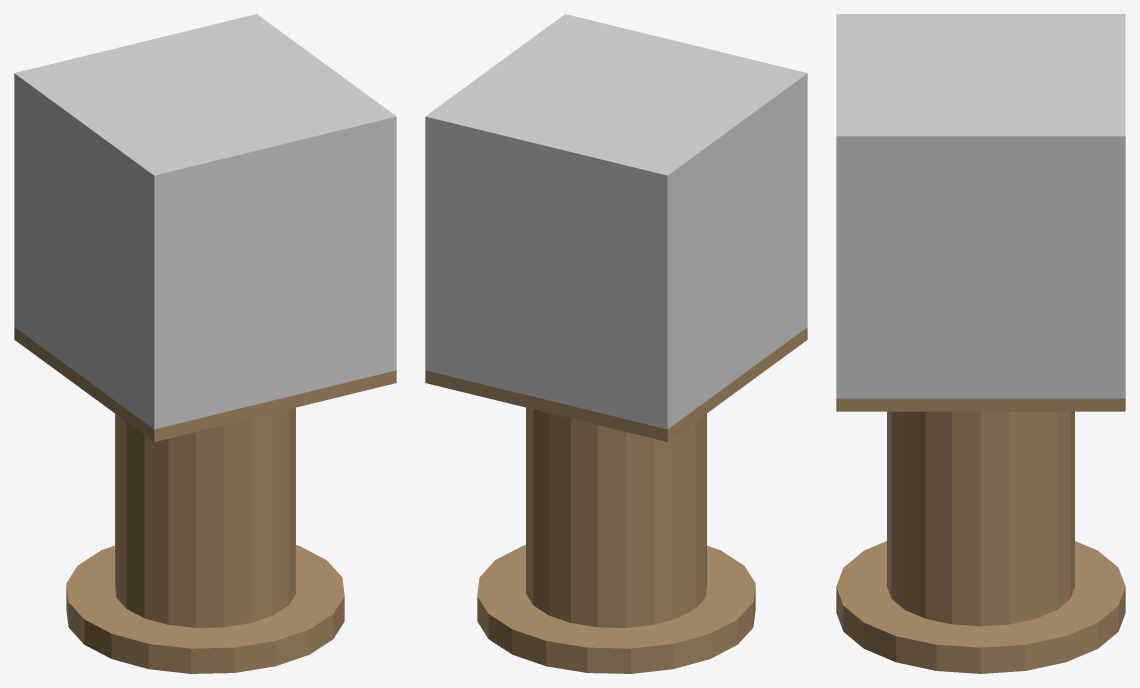
The model's file is vitrina_2.glb.
3 renders of one model, left to right at view 1: azimuth 30°, elevation 25°; view 2: azimuth 150°, elevation 25°; view 3: azimuth 270°, elevation 25°, orthographic. The views are drawn at different scales.
Visible parts, largest first — view 1: Mesh_Mesh_head_geo.001_lambert2SG.001; view 2: Mesh_Mesh_head_geo.001_lambert2SG.001; view 3: Mesh_Mesh_head_geo.001_lambert2SG.001.
Part boxes in pixels (x1=…): Mesh_Mesh_head_geo.001_lambert2SG.001: x1=14, y1=14, x2=396, y2=673; Mesh_Mesh_head_geo.001_lambert2SG.001: x1=425, y1=14, x2=807, y2=673; Mesh_Mesh_head_geo.001_lambert2SG.001: x1=836, y1=14, x2=1125, y2=673.
Bounding box in the file's own units: 0.02 × 0.041 × 0.02.
